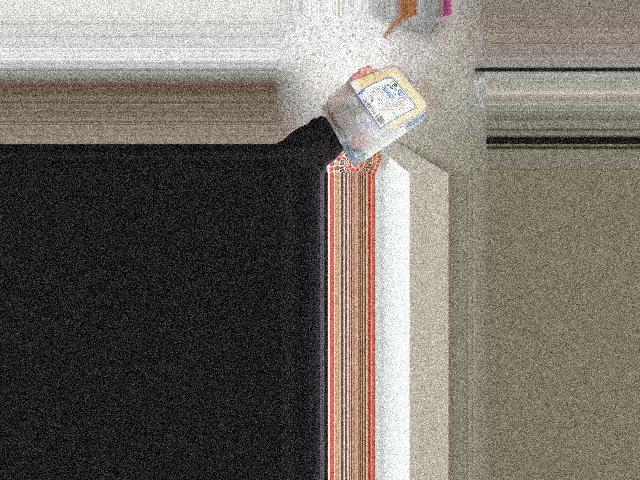cheese: (332, 66, 425, 151)
